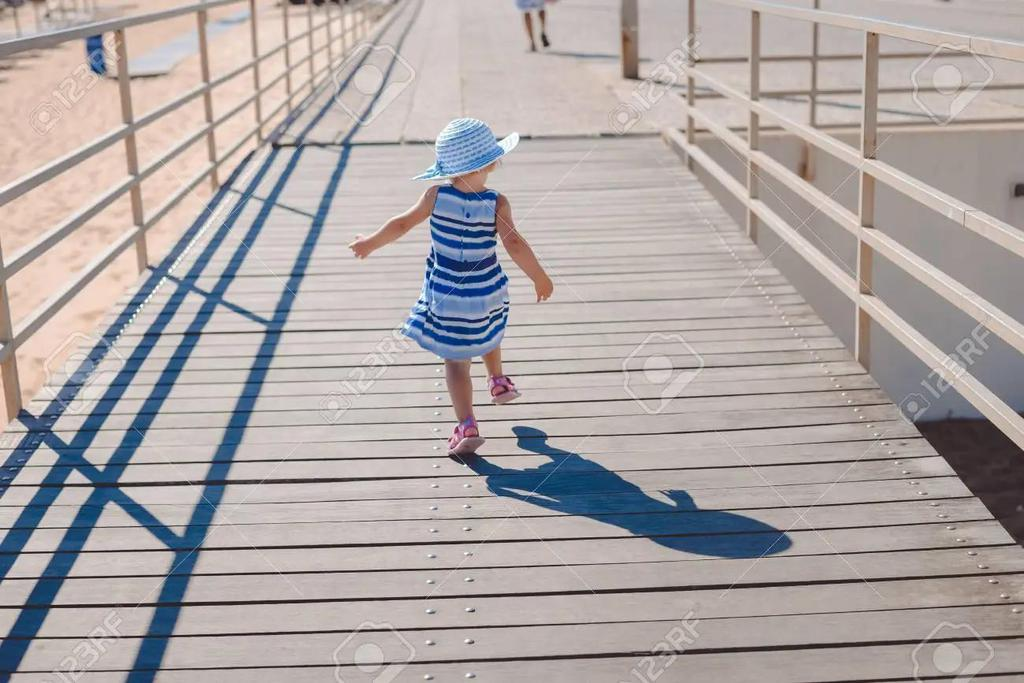child: (337, 116, 567, 465)
